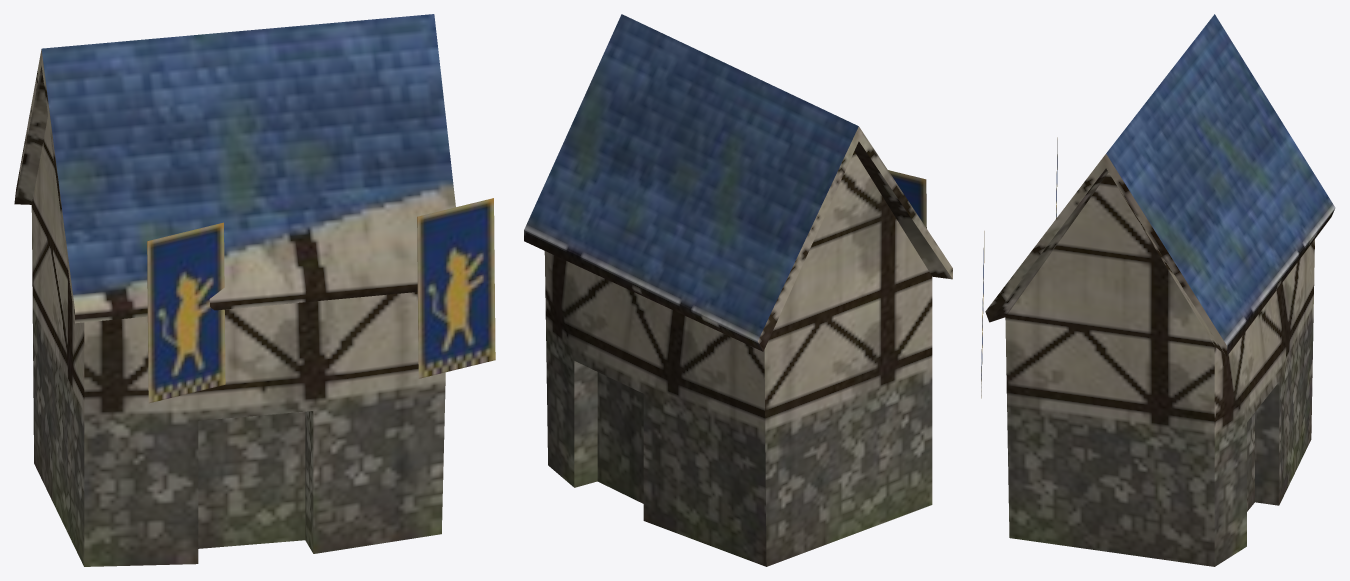
Rendered from house_07_card_lod2.glb.
The picture shows the model from 3 angles, left to right: view 1: azimuth 30°, elevation 25°; view 2: azimuth 150°, elevation 25°; view 3: azimuth 270°, elevation 25°; orthographic projection. The views are drawn at different scales.
Visible parts, largest first — view 1: house_07_game_card; view 2: house_07_game_card; view 3: house_07_game_card.
Boxes of the visible parts, left/top/right/bottom form: house_07_game_card: left=14, top=14, right=495, bottom=566; house_07_game_card: left=524, top=14, right=952, bottom=566; house_07_game_card: left=981, top=14, right=1335, bottom=566.
Size of the model in its own units: 7.4 by 8.13 by 6.44.
1 material, 1 textured.
